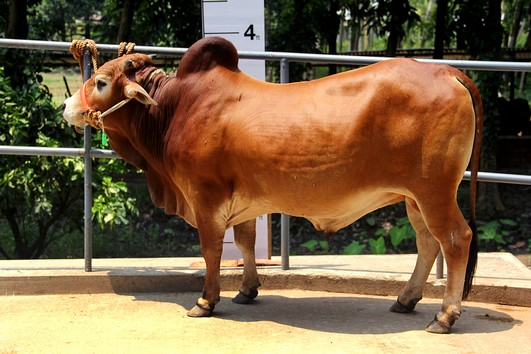cow: (47, 43, 481, 333)
